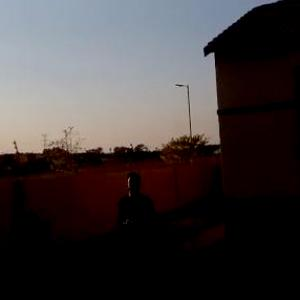follow: (110, 165, 162, 299)
